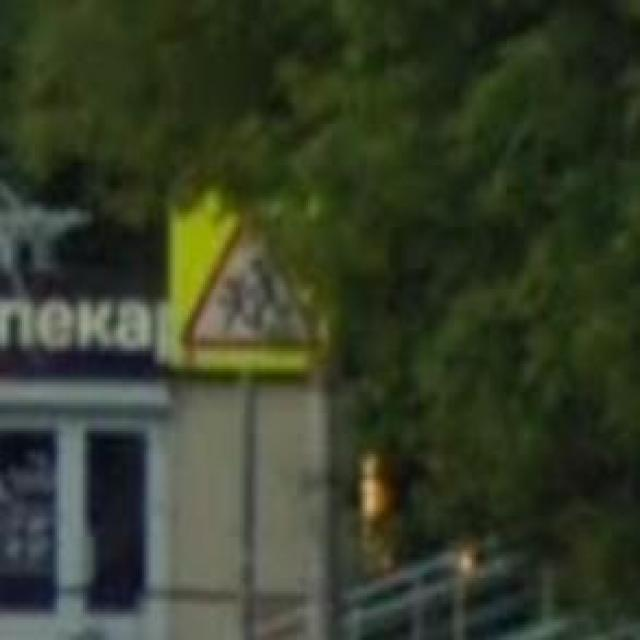traffic_sign: (177, 198, 325, 354)
